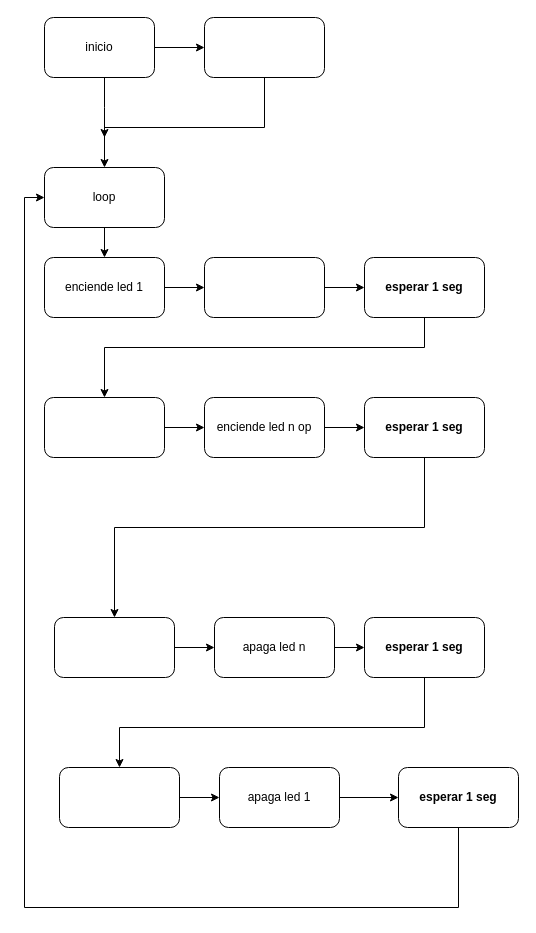
Some shapes in this 536 by 933 pixel diagram are drawn without their labels. The centre of each missing label's shape, as x and y in pixels:
apaga led 1 op: pixel 119 797
apaga led N op: pixel 114 647
definir 10 pines: pixel 264 47
enciende led N: pixel 104 427
enciende led op: pixel 264 287
